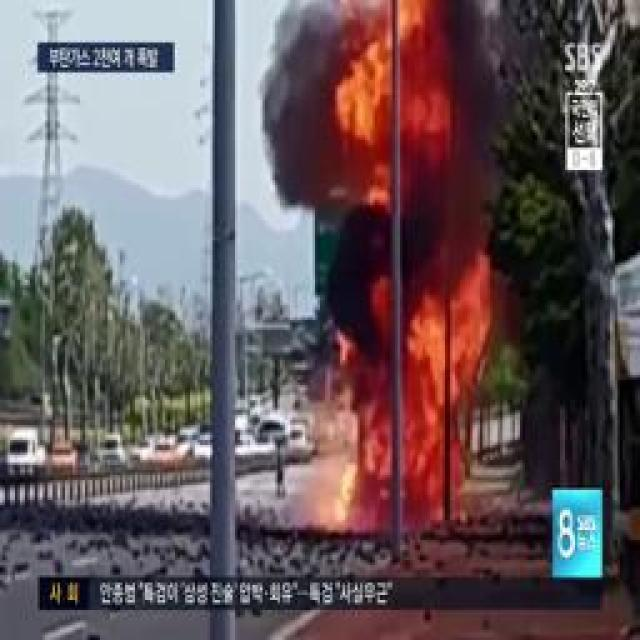Fire: (337, 291, 493, 533), (344, 36, 434, 168)
